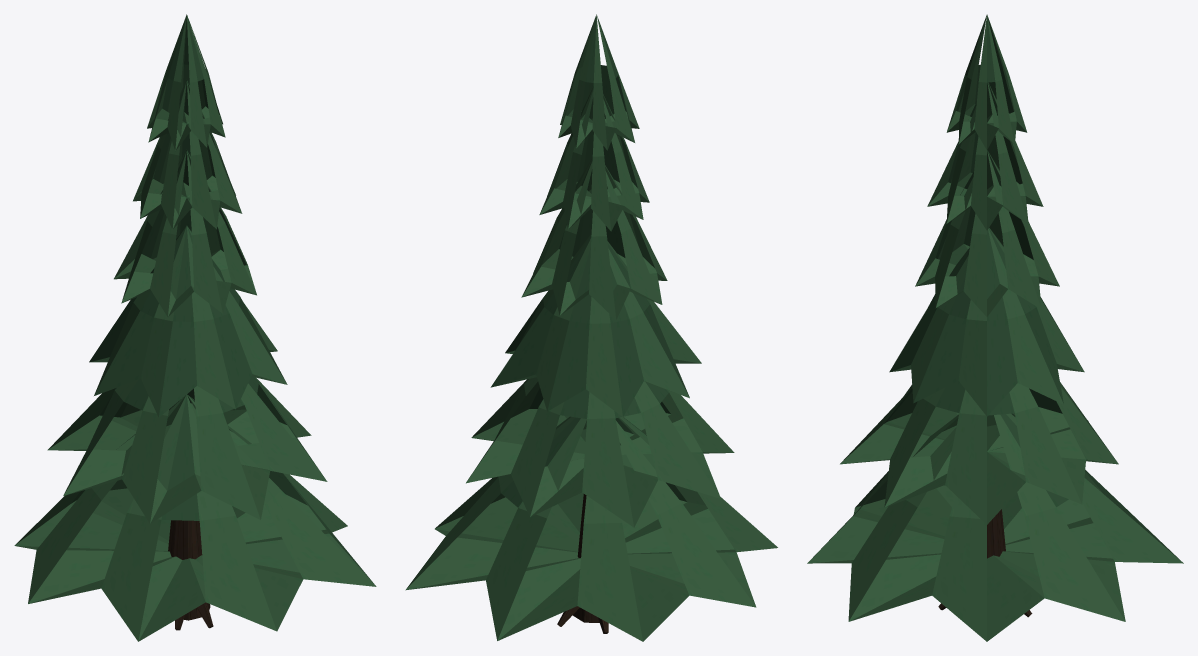
File: tree_pine_03.glb
3 views of the same model, side by side, from view 1: azimuth 30°, elevation 25°; view 2: azimuth 150°, elevation 25°; view 3: azimuth 270°, elevation 25° (orthographic).
Visible parts, largest first — view 1: tree_pine_03; view 2: tree_pine_03; view 3: tree_pine_03.
Part boxes in pixels (left/top/right/bottom): tree_pine_03: left=14, top=14, right=376, bottom=641; tree_pine_03: left=405, top=14, right=777, bottom=641; tree_pine_03: left=807, top=14, right=1183, bottom=641.
Bounding box in the file's own units: 4.5 × 8.03 × 4.6.
3 materials, 3 textured.
